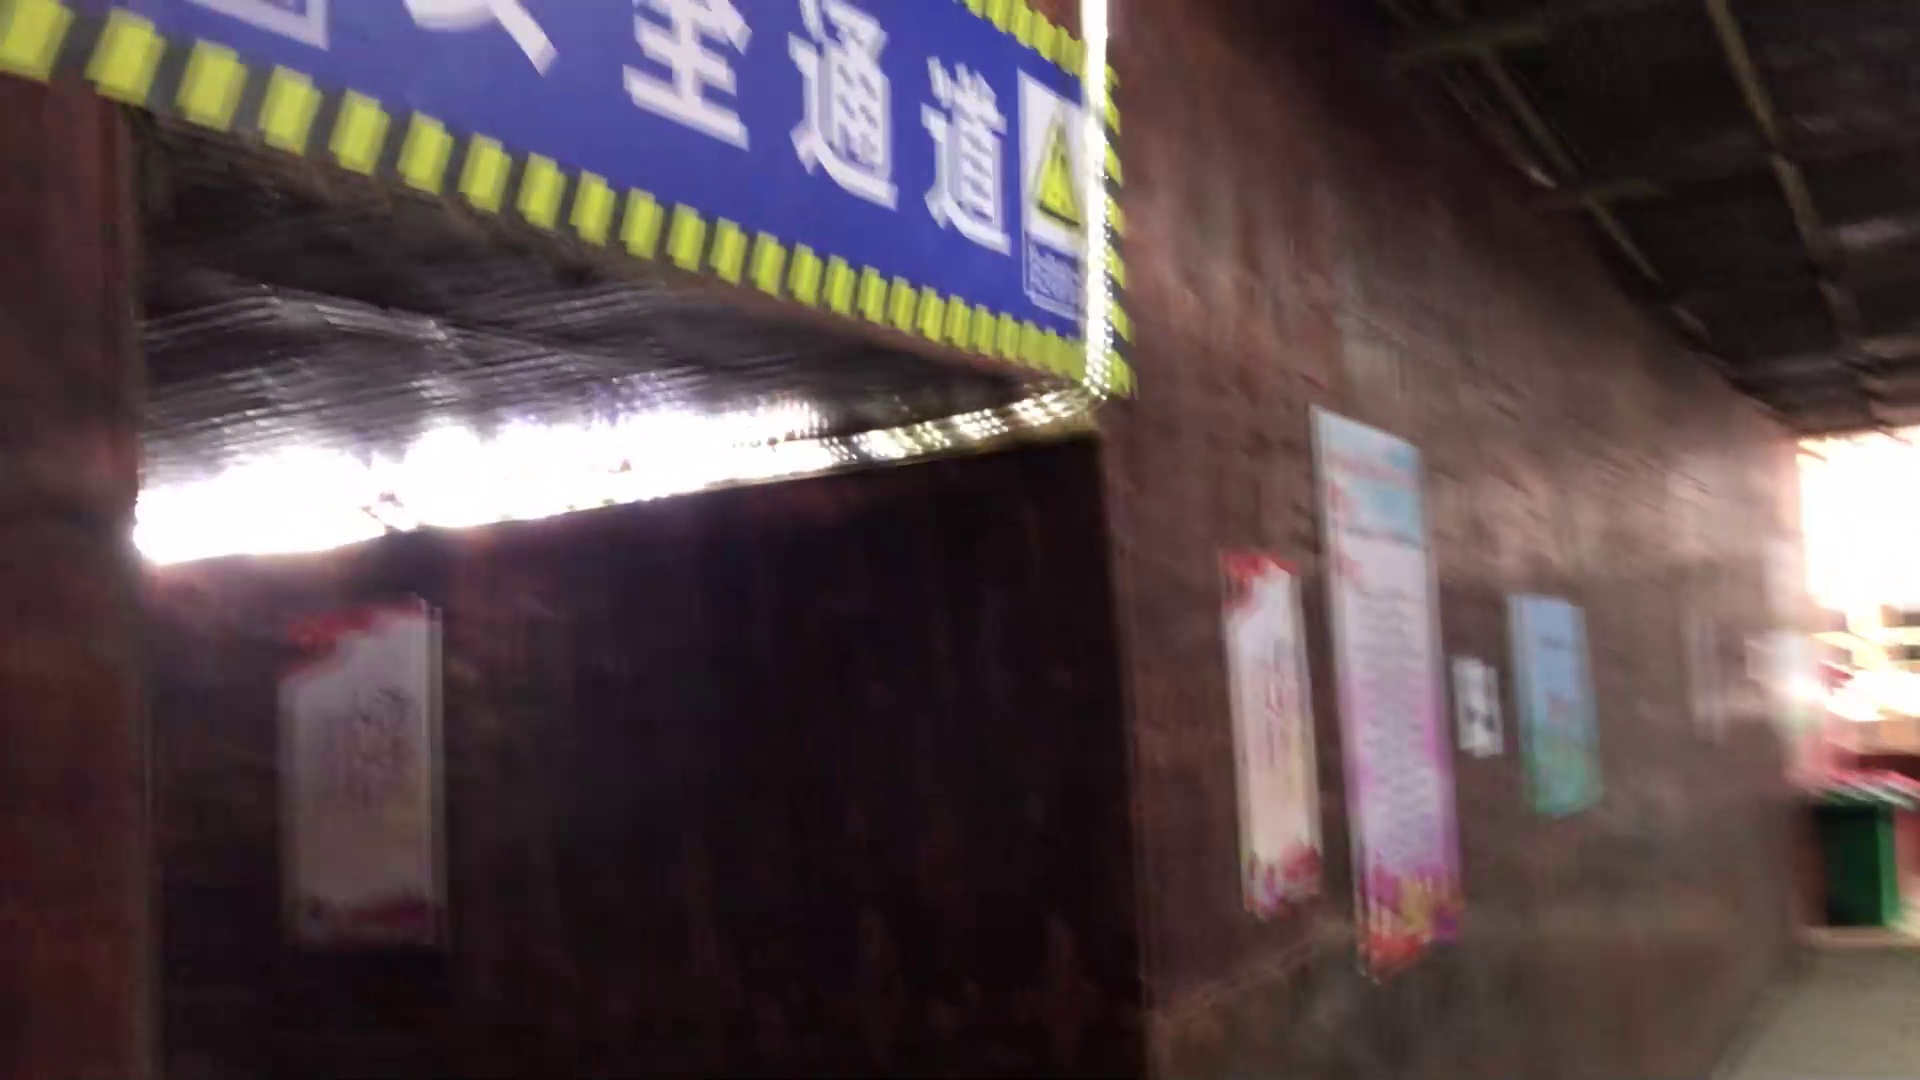slogan: (146, 1, 1138, 396), (1308, 400, 1468, 976), (276, 591, 454, 957), (1222, 547, 1325, 909), (1513, 585, 1605, 822)
